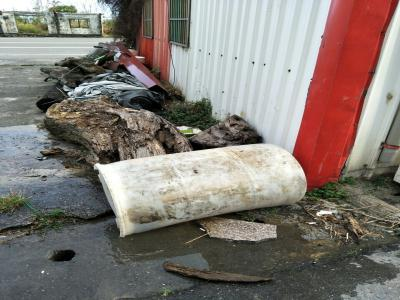bucket: (91, 138, 310, 241)
